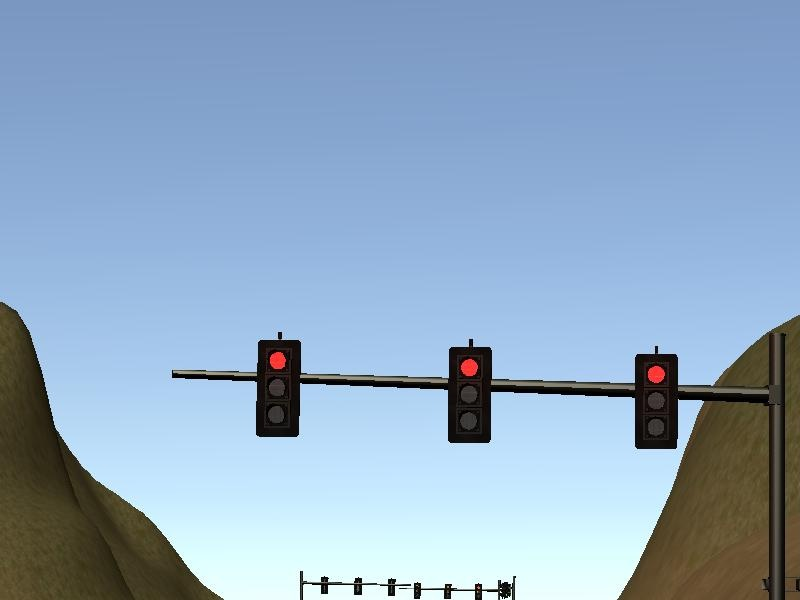red: (254, 340, 301, 438), (446, 347, 492, 446), (632, 354, 679, 450)
